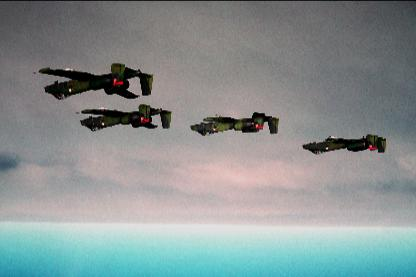A10: (32, 63, 154, 99), (76, 105, 172, 131), (191, 112, 279, 136), (303, 134, 387, 154)
